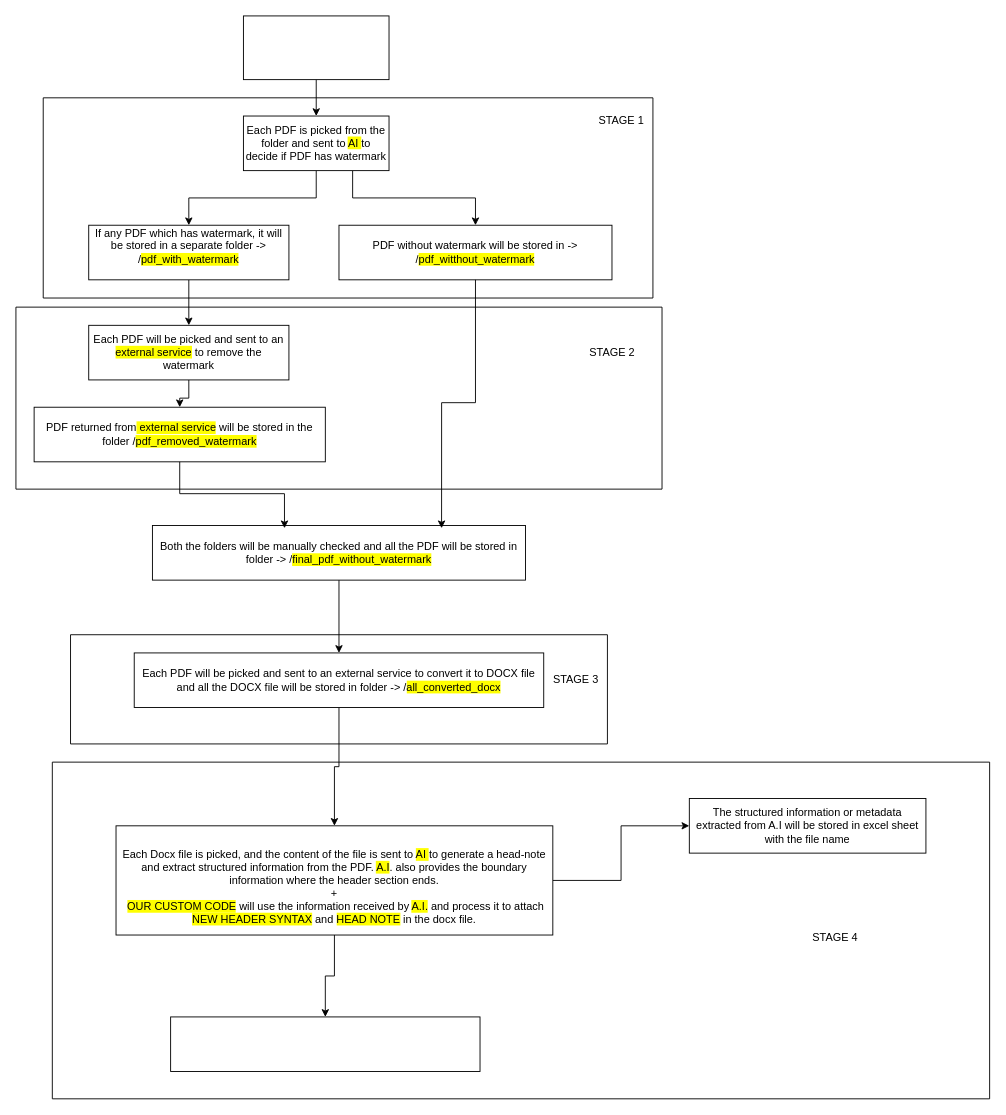
Some shapes in this 1006 by 1115 pixel diagram are drawn without their labels. The centre of each missing label's shape, as x and y in pixels:
"All PDF are stored in a folder /pdf_to_process" goes at [316,47].
"The final docx file will be saved to the folder / final_docx" goes at [325,1044].
